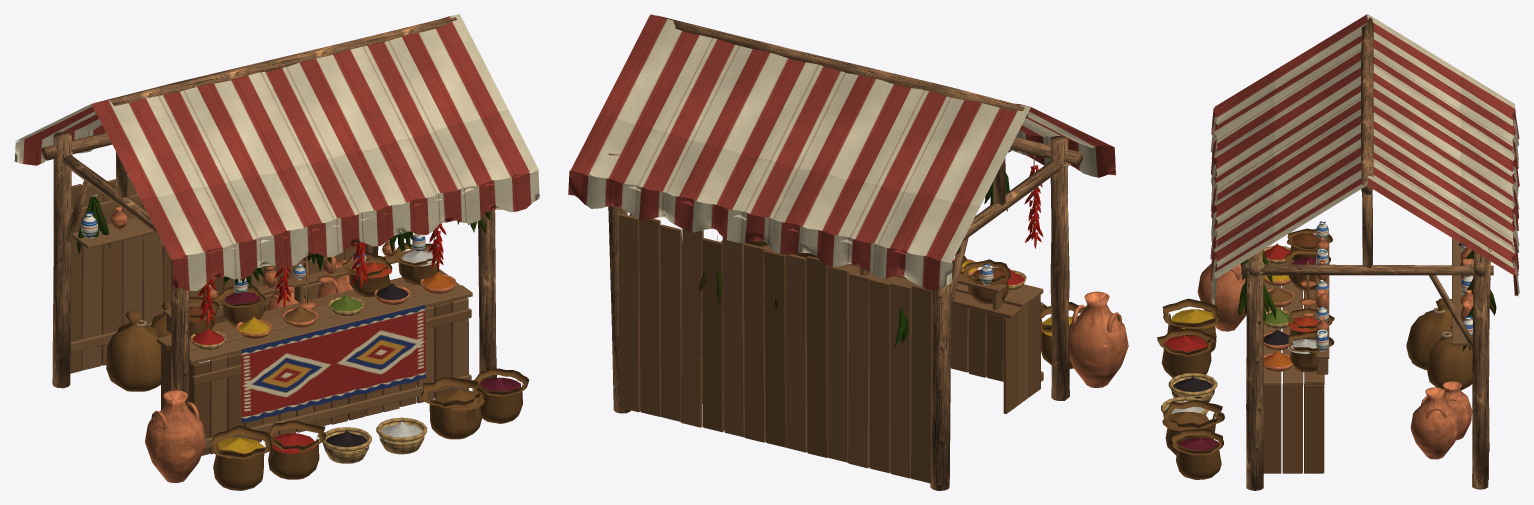
Rendered from village-kiosk-1-lite.glb.
The picture shows the model from 3 angles, left to right: view 1: azimuth 30°, elevation 25°; view 2: azimuth 150°, elevation 25°; view 3: azimuth 270°, elevation 25°; orthographic projection. The views are drawn at different scales.
Visible parts, largest first — view 1: K1_Cloth, K1_Props, K1_Wood; view 2: K1_Wood, K1_Cloth, K1_Props; view 3: K1_Cloth, K1_Props, K1_Wood.
Boxes of the visible parts, x1=… form: K1_Cloth: x1=14, y1=14, x2=539, y2=290; K1_Props: x1=54, y1=152, x2=529, y2=490; K1_Wood: x1=41, y1=17, x2=496, y2=455; K1_Wood: x1=608, y1=15, x2=1082, y2=490; K1_Cloth: x1=568, y1=14, x2=1115, y2=290; K1_Props: x1=682, y1=155, x2=1128, y2=387; K1_Cloth: x1=1210, y1=14, x2=1519, y2=304; K1_Props: x1=1157, y1=221, x2=1496, y2=479; K1_Wood: x1=1241, y1=17, x2=1493, y2=490.
Size of the model in its own units: 3.76 by 3.09 by 3.22.
3 materials, 3 textured.
